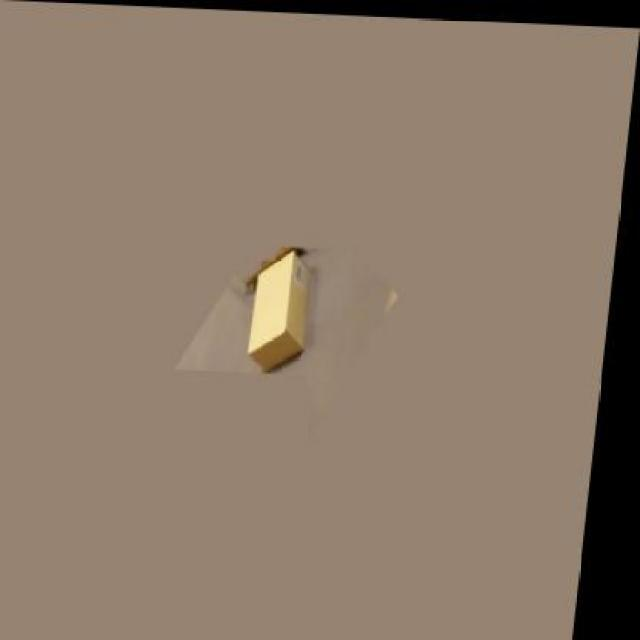box: (254, 245, 316, 366)
